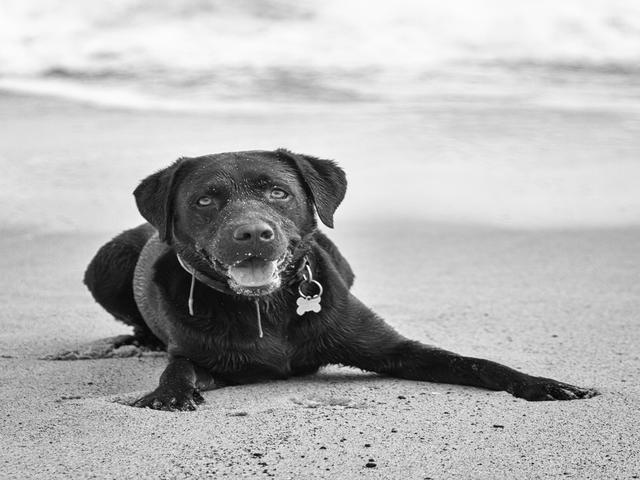dog: (64, 148, 631, 432)
